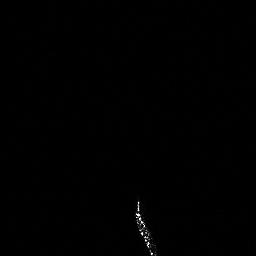ship: (132, 198, 161, 256)
